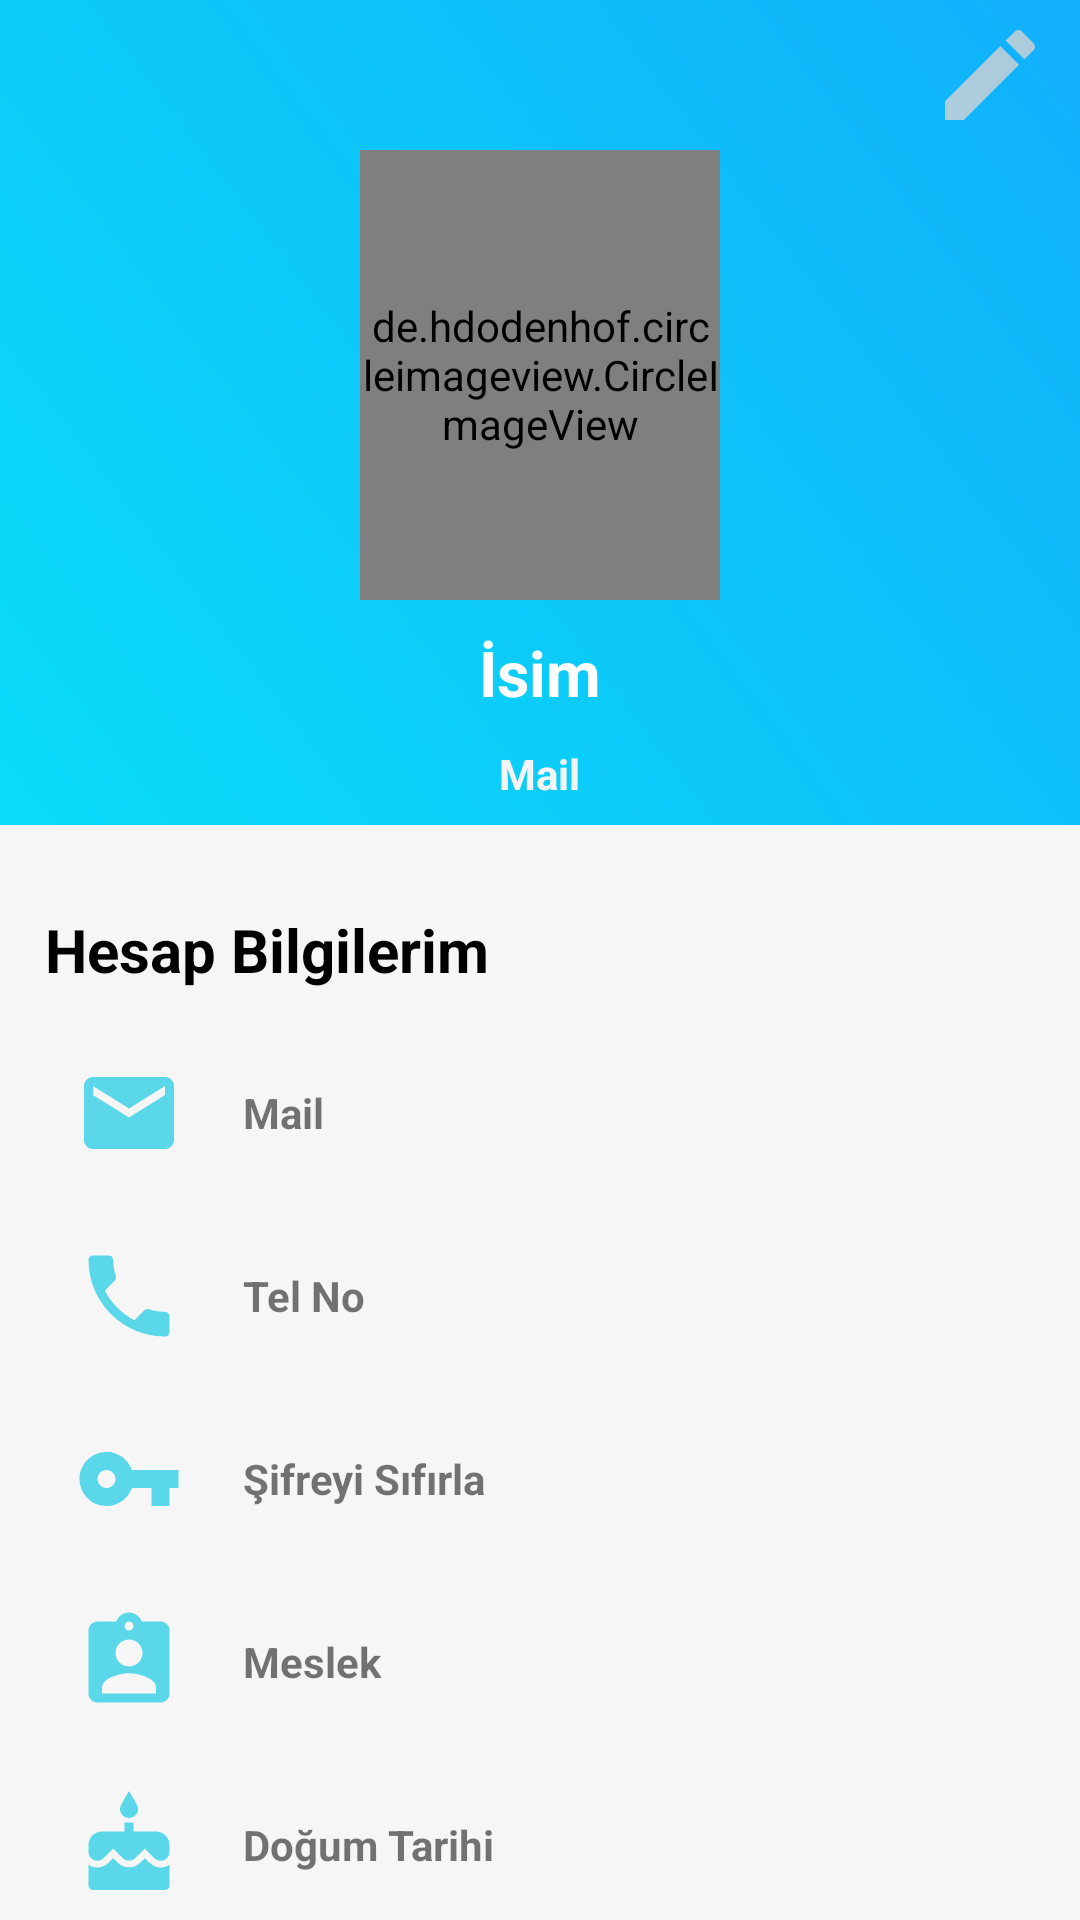

Icon bounding boxes for this 1080 × 1920 phone screenshot, format (x1, y1, x2, y2):
cake: (88, 1791, 170, 1890)
edit: (945, 30, 1035, 120)
job: (88, 1612, 170, 1703)
pass: (79, 1452, 179, 1506)
phone android: (88, 1255, 170, 1337)
